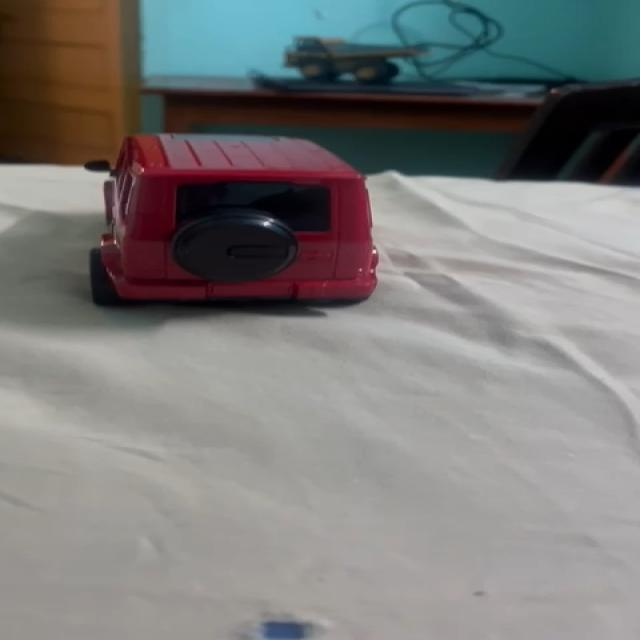light_vehicle: (86, 125, 380, 311)
